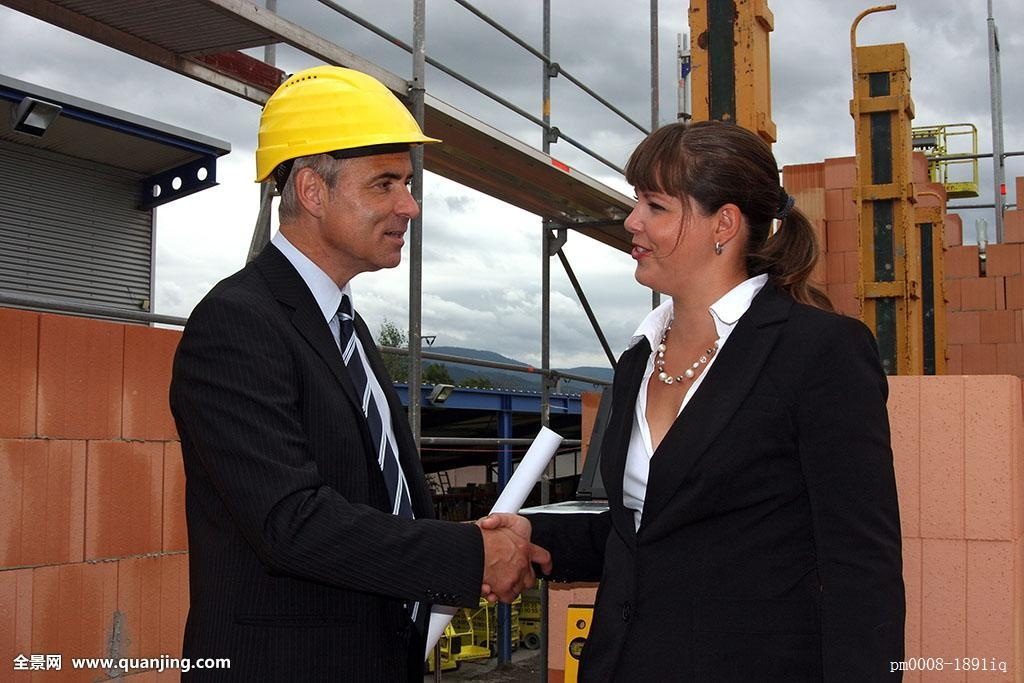none: (619, 117, 793, 308)
yellow: (253, 66, 430, 277)
